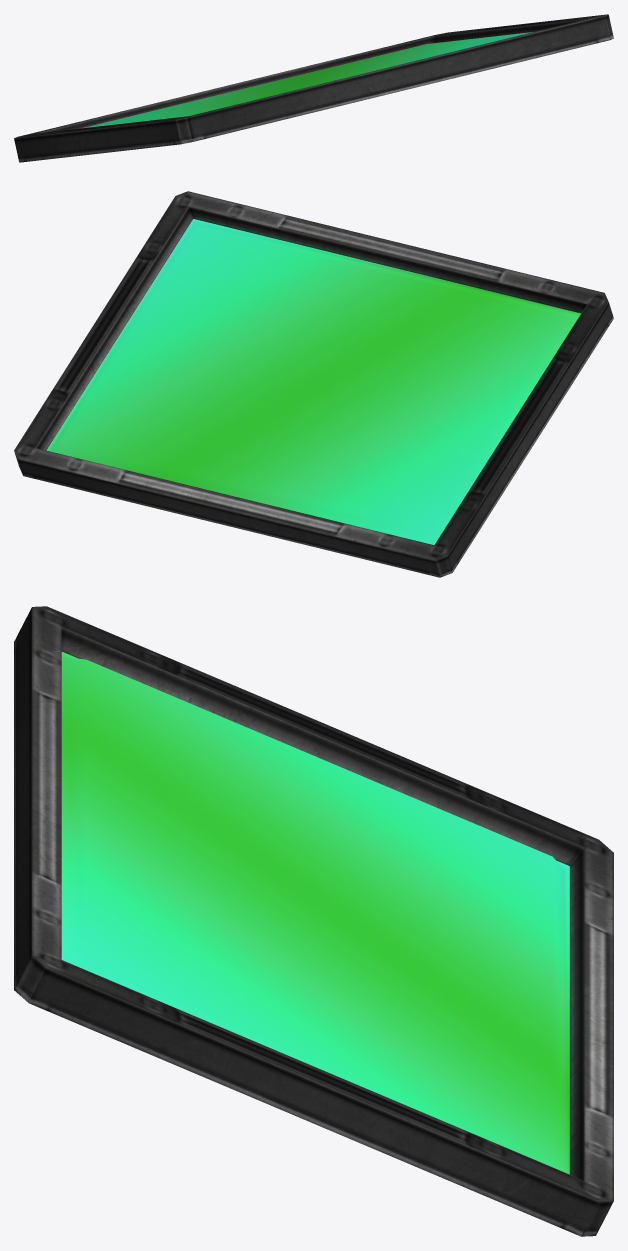
Rendered from tablet_green_Tilted.fbx.
The picture shows the model from 3 angles, top to bottom: view 1: azimuth 30°, elevation 25°; view 2: azimuth 150°, elevation 25°; view 3: azimuth 270°, elevation 25°; orthographic projection. The views are drawn at different scales.
Visible parts, largest first — view 1: tablet_green_Tilted; view 2: tablet_green_Tilted; view 3: tablet_green_Tilted.
Part boxes in pixels (bbox=[...]): tablet_green_Tilted: bbox=[14, 14, 613, 162]; tablet_green_Tilted: bbox=[14, 191, 613, 577]; tablet_green_Tilted: bbox=[14, 606, 613, 1236].
Bounding box in the file's own units: 360 × 130 × 252.
Materials: 1 (1 with a texture image).
